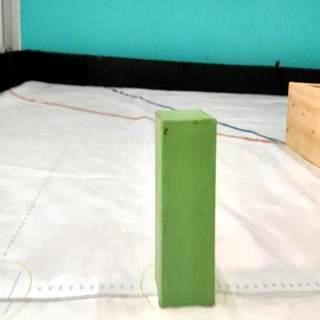greenbox: (153, 108, 220, 306)
